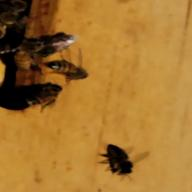Bee: (94, 143, 167, 182), (34, 54, 107, 79)
